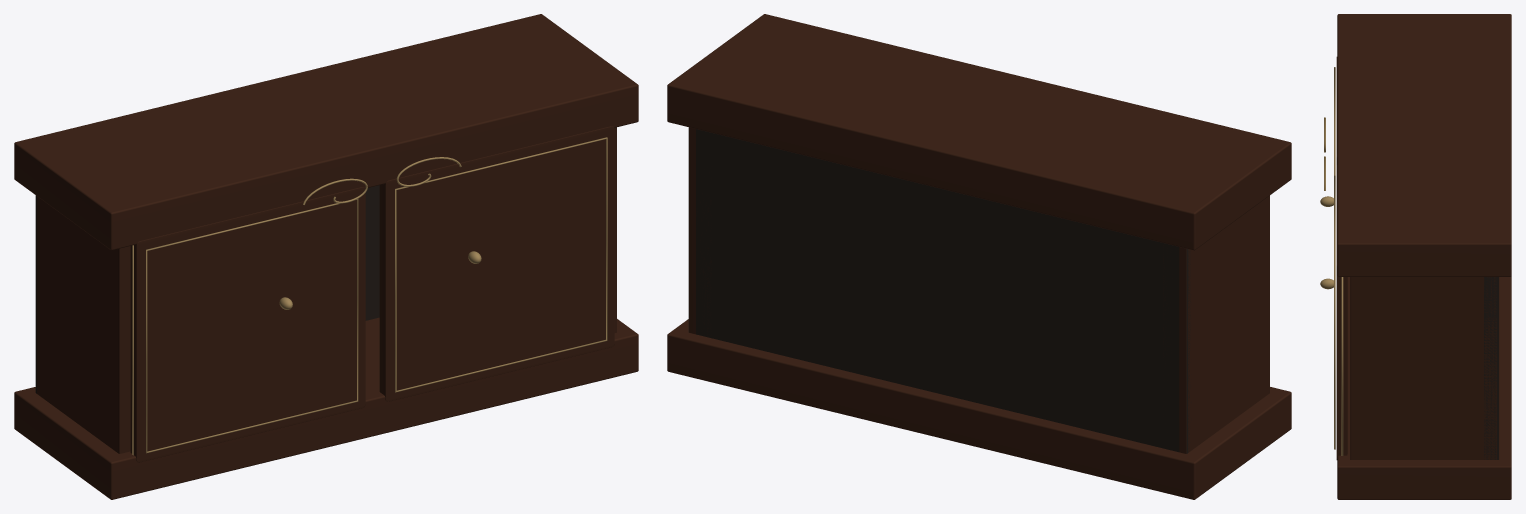
File: Sideboard.fbx
3 renders of one model, left to right at view 1: azimuth 30°, elevation 25°; view 2: azimuth 150°, elevation 25°; view 3: azimuth 270°, elevation 25°, orthographic. The views are drawn at different scales.
Visible parts, largest first — view 1: Plinth cornice.009, Raised wooden panel.021, Raised wooden panel.020, Plinth cornice.008, Upright.008, Back.004, Panel moulding.115, Panel moulding.114; view 2: Back.004, Plinth cornice.009, Plinth cornice.008, Upright.008, Upright.009; view 3: Plinth cornice.009, Upright.009, Plinth cornice.008, Back.004, Raised wooden panel.021, Panel moulding.115, Panel moulding.117.
Boxes of the visible parts, x1,y1,x2,y2 form: Plinth cornice.009: [14, 14, 638, 250]; Raised wooden panel.021: [379, 126, 614, 401]; Raised wooden panel.020: [130, 187, 365, 462]; Plinth cornice.008: [14, 317, 638, 499]; Upright.008: [37, 196, 130, 453]; Back.004: [35, 185, 379, 393]; Panel moulding.115: [395, 137, 607, 392]; Panel moulding.114: [146, 199, 358, 453]; Back.004: [688, 127, 1190, 453]; Plinth cornice.009: [667, 14, 1291, 250]; Plinth cornice.008: [667, 319, 1291, 499]; Upright.008: [1163, 195, 1269, 453]; Upright.009: [689, 127, 711, 336]; Plinth cornice.009: [1337, 14, 1511, 276]; Upright.009: [1350, 277, 1499, 459]; Plinth cornice.008: [1337, 276, 1511, 499]; Back.004: [1484, 277, 1498, 459]; Raised wooden panel.021: [1336, 165, 1347, 459]; Panel moulding.115: [1334, 175, 1335, 449]; Panel moulding.117: [1341, 277, 1343, 455].
Size of the model in its own units: 1.75 by 0.92 by 0.615.
